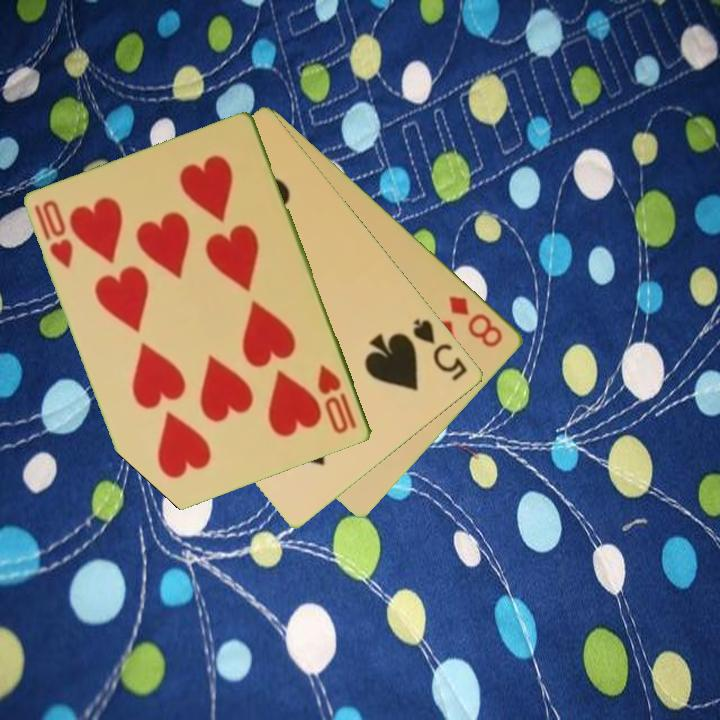10h: (314, 361, 361, 438), (31, 196, 77, 272)
5s: (410, 314, 471, 384)
8d: (445, 292, 507, 350)
